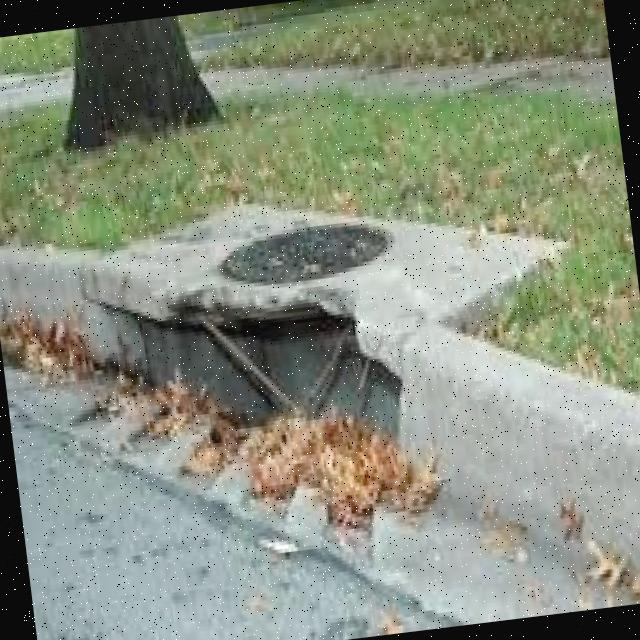curb: (1, 258, 640, 625)
